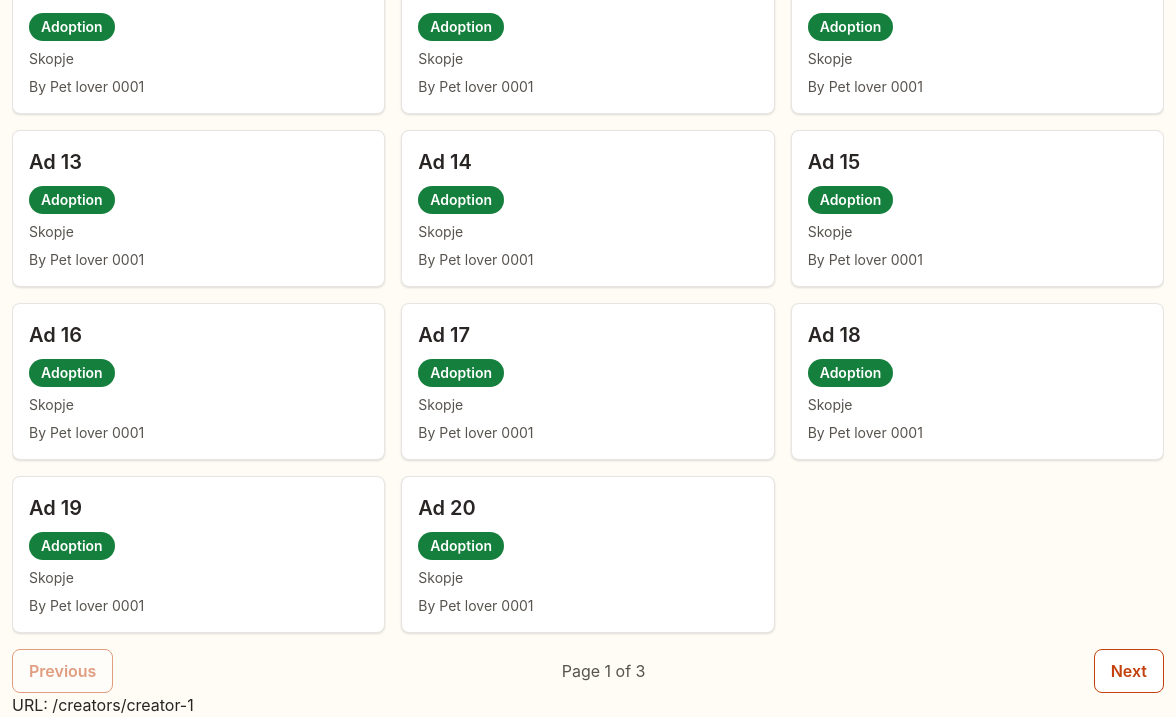
Test: CreatorProfilePage › paging › requests page 2 on Next, shows its ads and updates the URL
(page scrolled)
Click the button "Next". click: point(1129, 671)
box: [1094,649,1164,693]
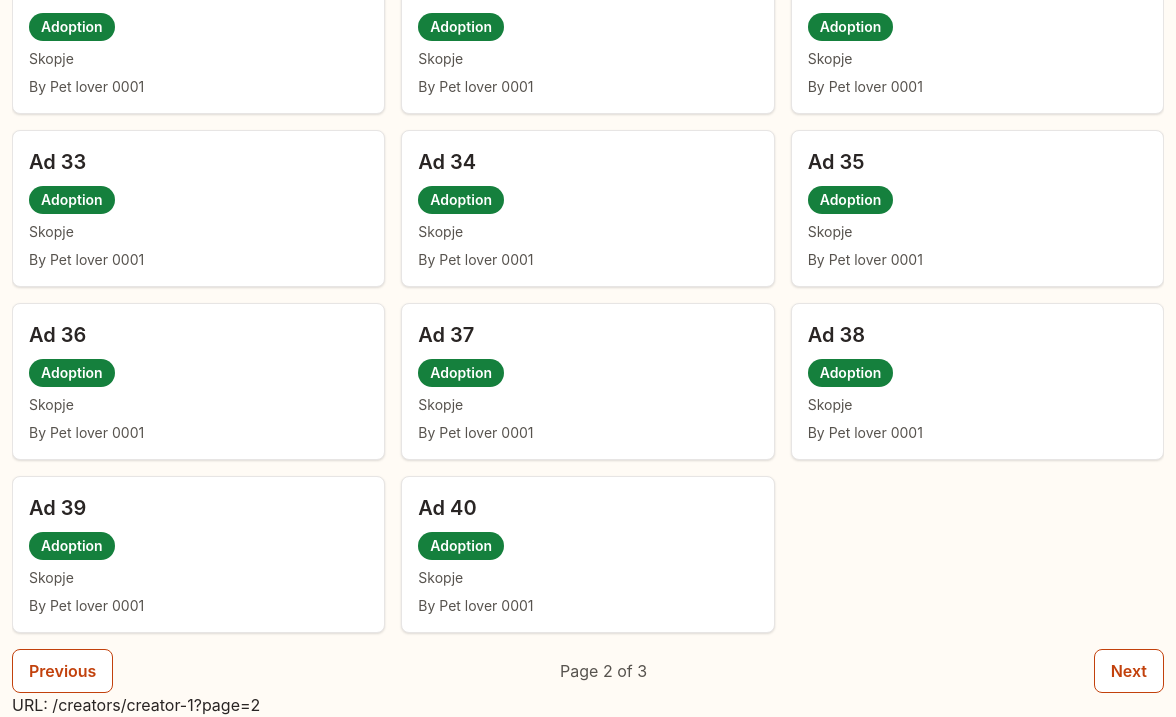
Expected: the link "Ad 1" is not shown
Expected: the text "URL: /creators/creator-1?page=2" is shown, [12,695,260,715]
